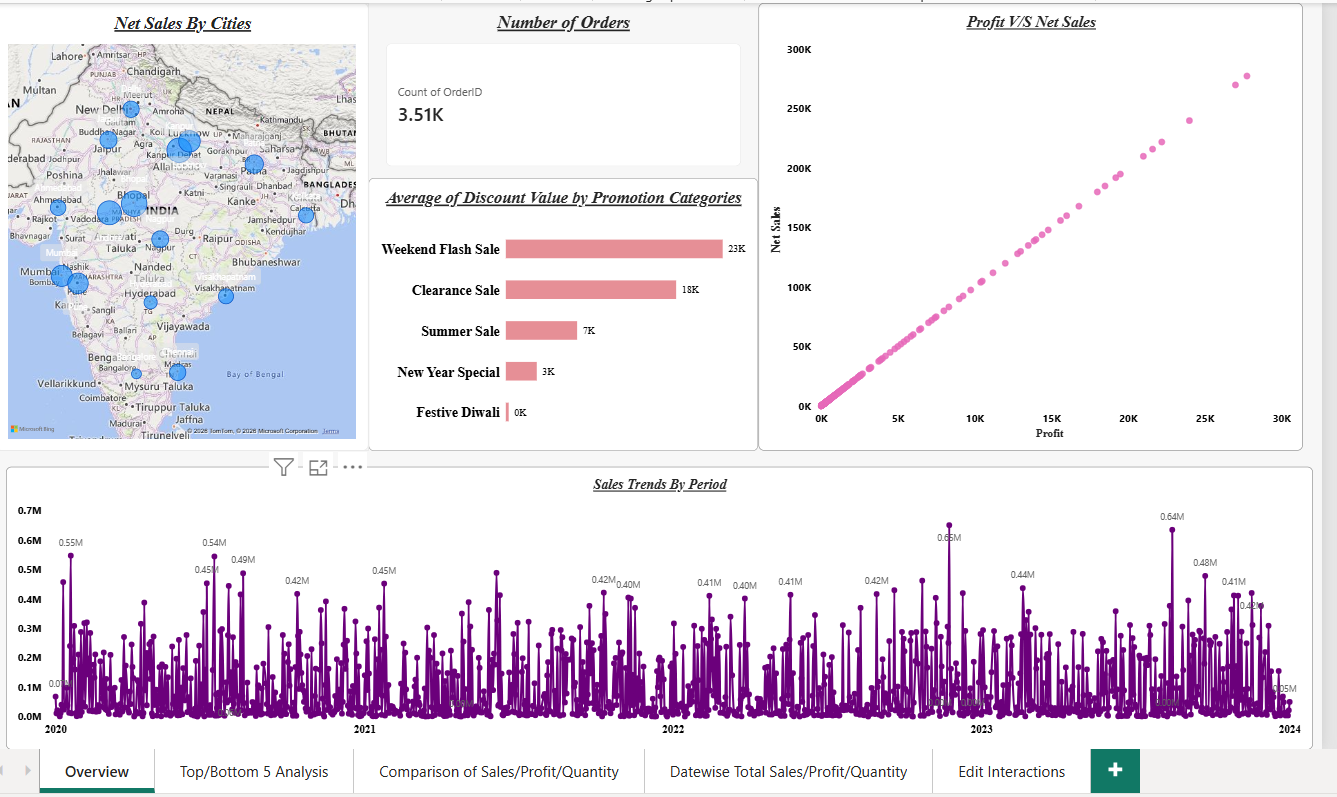

The page's visual inventory and layout, read from the dashboard file:
{"tool":"powerbi","page":{"name":"Overview","canvas":[1920,1080],"ordinal":0},"visuals":[{"type":"lineChart","title":"Sales Trends By Period","fields":{"Category":["Fact Table.Date (dd/mm/yyyy).Variation.Date Hierarchy.Year"],"Y":["Sum(Fact Table.Net Sales )"]},"box":[14.4,671,1891.6,409.6],"z":0},{"type":"scatterChart","title":"Profit V/S Net Sales ","fields":{"X":["Fact Table.Profit"],"Y":["Fact Table.Net Sales "]},"box":[1103.3,0,788.3,648.4],"z":1000},{"type":"barChart","title":"Average of Discount Value by Promotion Categories","fields":{"Category":["Dim Promotion.Promotion Name"],"Y":["Avg(Fact Table.Discount Value)"]},"box":[539.3,253.2,564,395.2],"z":2000},{"type":"map","title":"Net Sales By Cities","fields":{"Category":["Dim Customers.City"],"Size":["Sum(Fact Table.Net Sales )"]},"box":[0,0,539.3,648.4],"z":3000},{"type":"cardVisual","title":"Number of Orders","fields":{"Data":["Count(Fact Table.OrderID)"]},"box":[564,14.4,514.6,222.3],"z":4000}]}

Visuals, with their boxes on the page's 1920x1080 design canvas (x1, y1, x2, y2). These are canvas units, not pixel positions in the 1337x797 screenshot, which may show the page scaled, cropped or inside an application window:
"Sales Trends By Period" lineChart: 14, 671, 1906, 1081
"Profit V/S Net Sales " scatterChart: 1103, 0, 1892, 648
"Average of Discount Value by Promotion Categories" barChart: 539, 253, 1103, 648
"Net Sales By Cities" map: 0, 0, 539, 648
"Number of Orders" cardVisual: 564, 14, 1079, 237
